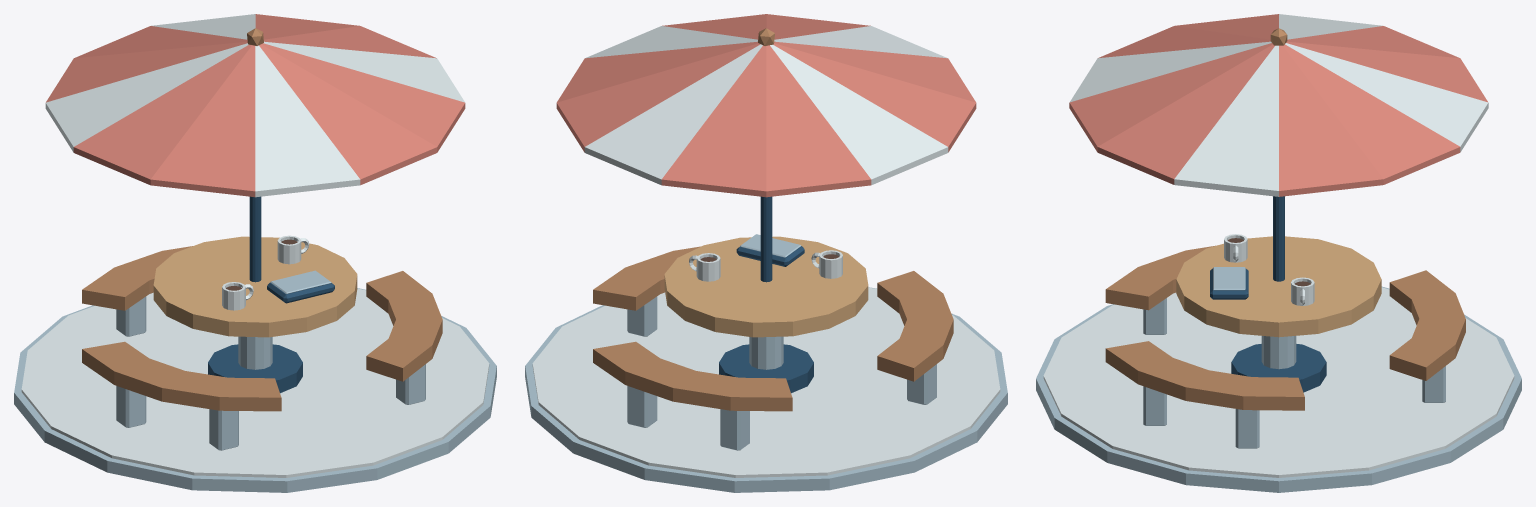
The model's file is campus_meeting_nook_v01.glb.
The picture shows the model from 3 angles, left to right: view 1: azimuth 30°, elevation 25°; view 2: azimuth 150°, elevation 25°; view 3: azimuth 270°, elevation 25°; orthographic projection.
Parts seen in each view (by area): view 1: campus_meeting_nook; view 2: campus_meeting_nook; view 3: campus_meeting_nook.
Part boxes in pixels (left/top/right/bottom): campus_meeting_nook: left=14, top=14, right=496, bottom=492; campus_meeting_nook: left=525, top=14, right=1007, bottom=492; campus_meeting_nook: left=1036, top=14, right=1521, bottom=492.
Size of the model in its own units: 4.5 by 3.7 by 4.5.
1 material, 1 textured.
